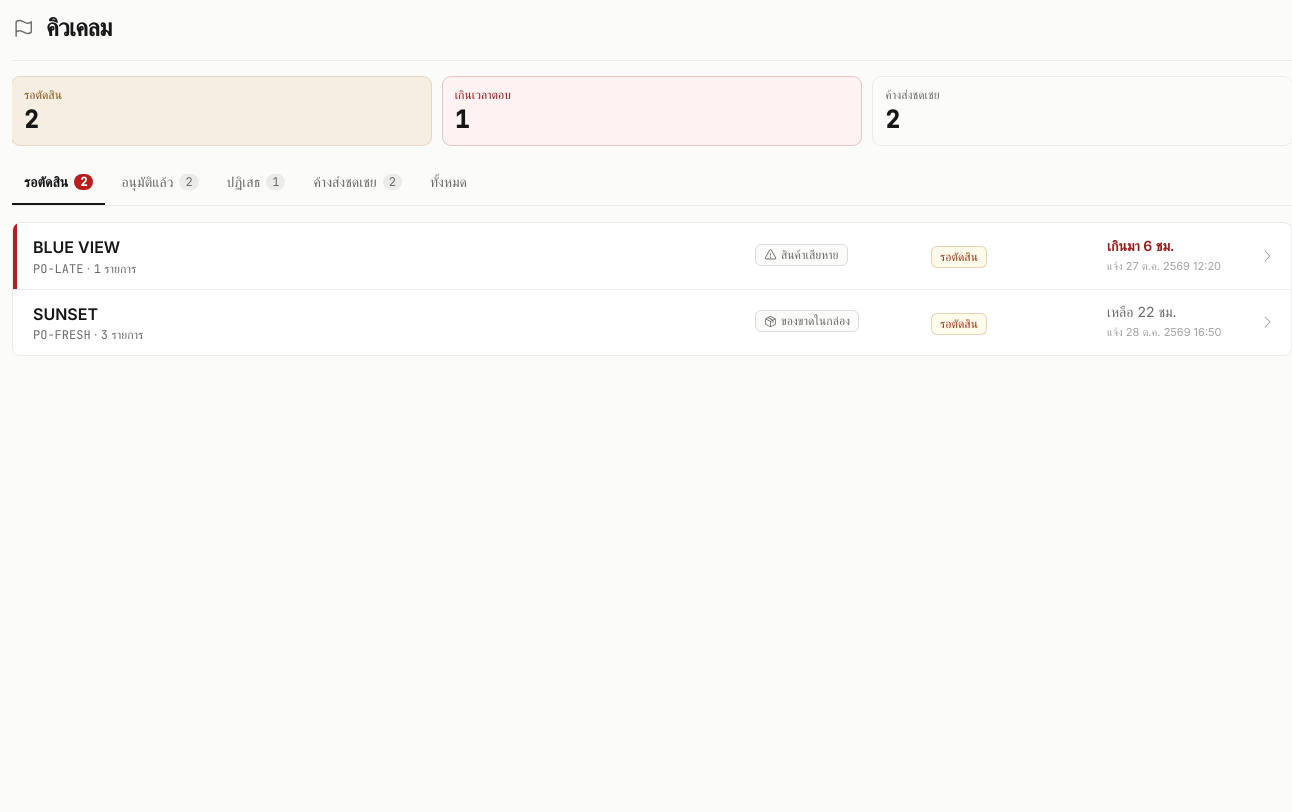
tabs show their counts, and statuses read in Thai
Expected: the text "BLUE VIEW" is shown, [33,237,120,257]
Click the tab "อนุมัติแล้ว 2". click: (160, 183)
box: [109,161,211,205]
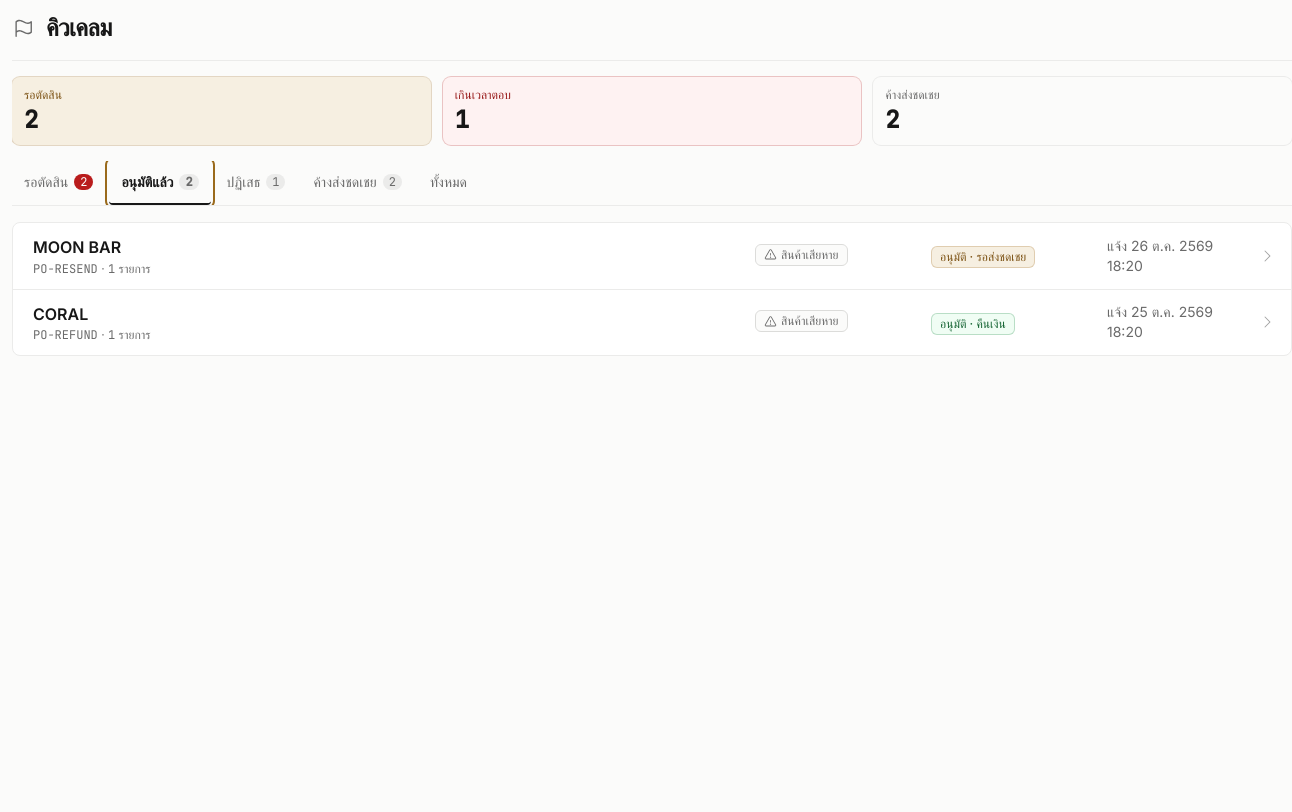
Click the tab "ปฏิเสธ 1". click: (256, 183)
box: [215,161,297,205]
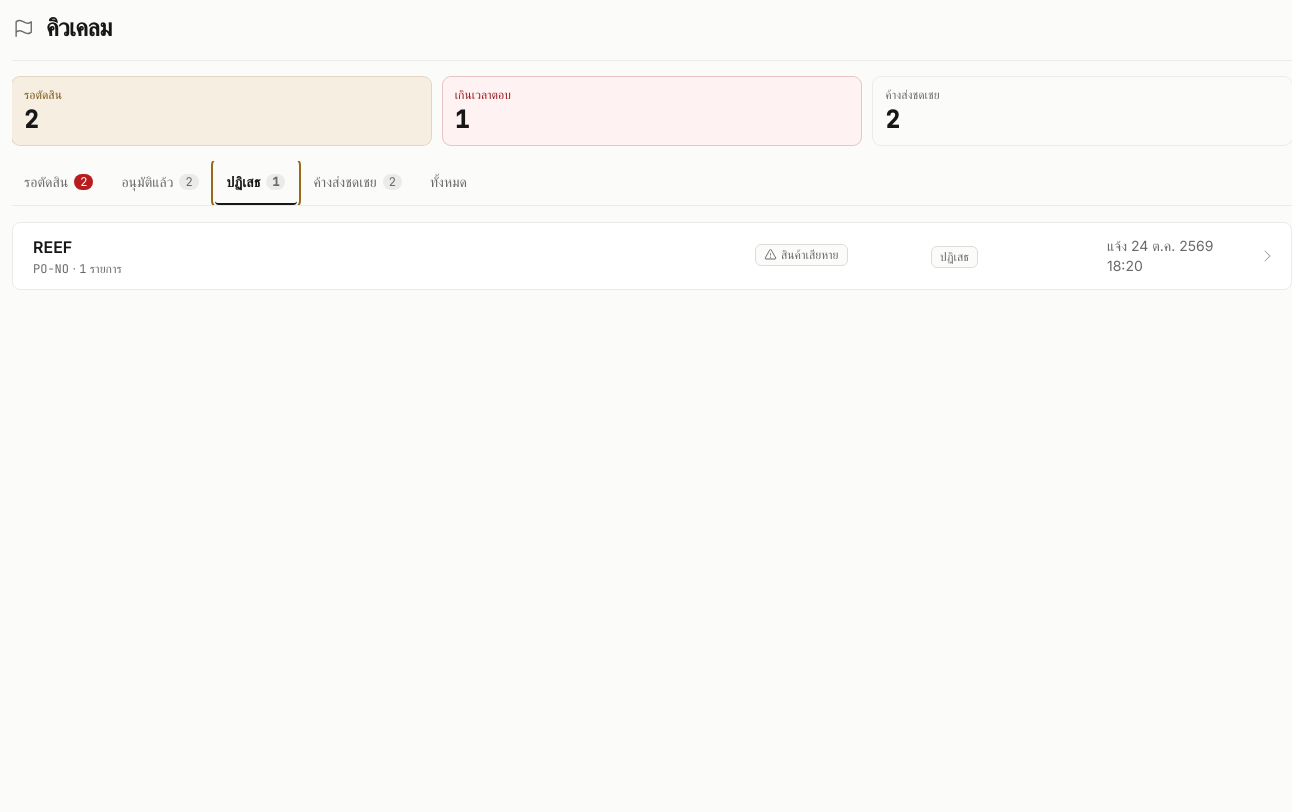
Expected: the number of links is 1, [13,223,1291,289]
Click the tab "ทั้งหมด". click: (448, 183)
box: [418,161,479,205]
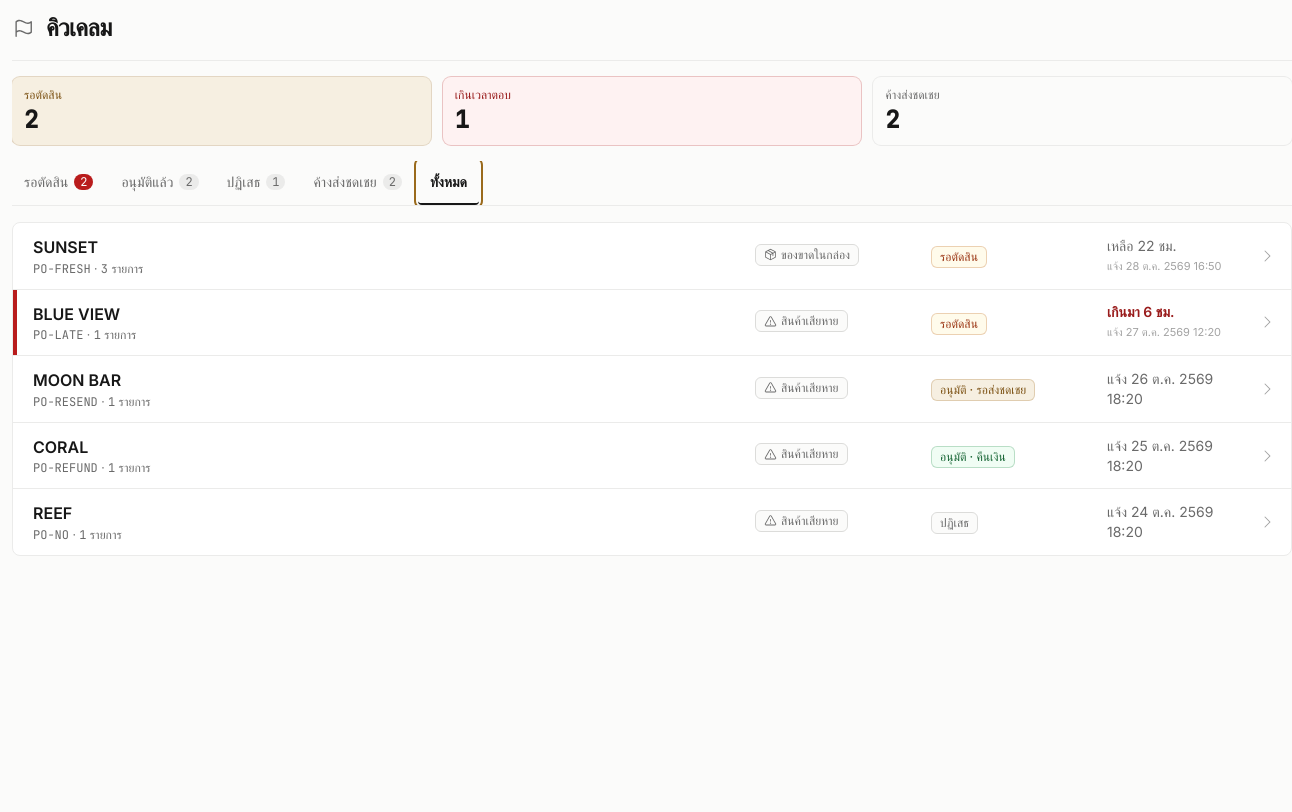
Expected: the number of links is 5, [13,223,1291,289]; [13,290,1291,355]; [13,356,1291,422]; [13,423,1291,488]; [13,489,1291,555]
